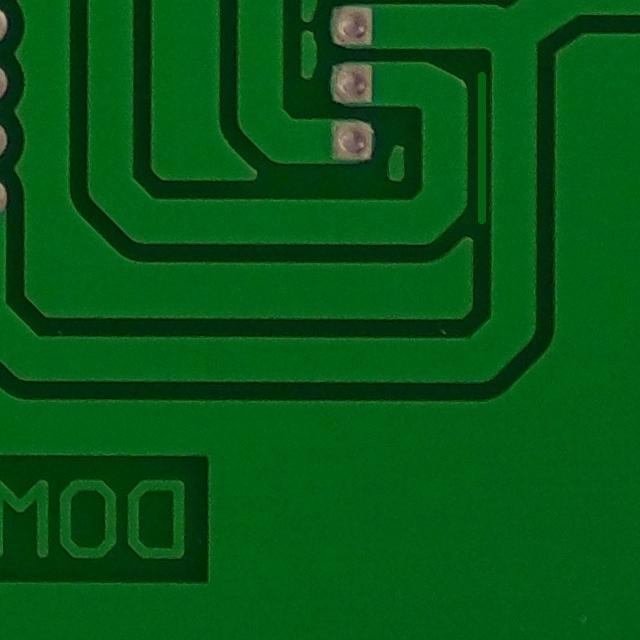spurious_copper: (464, 63, 497, 228)
